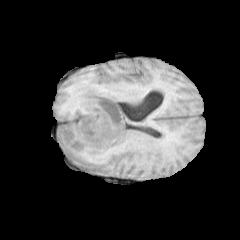glioma: (58, 80, 146, 172)
